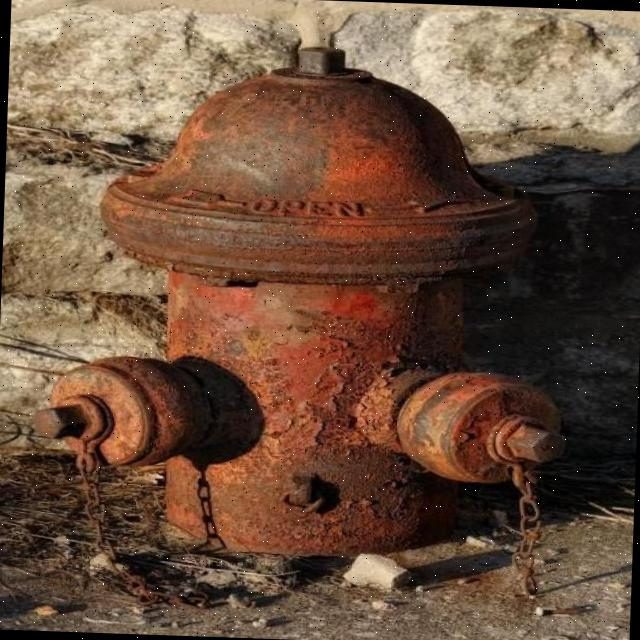Corrosion: (29, 34, 580, 576)
